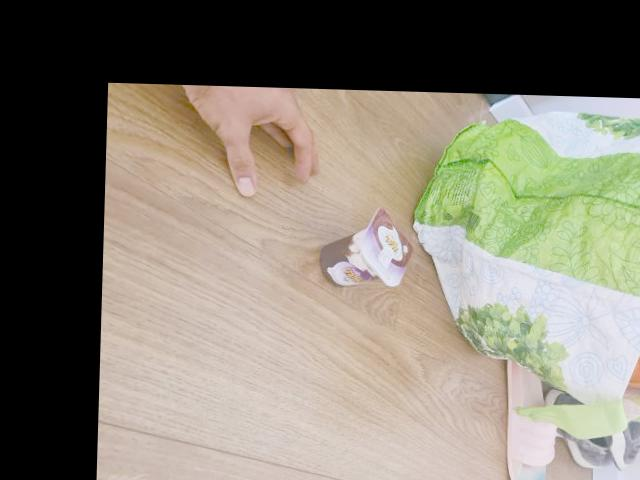milky: (315, 209, 413, 292)
